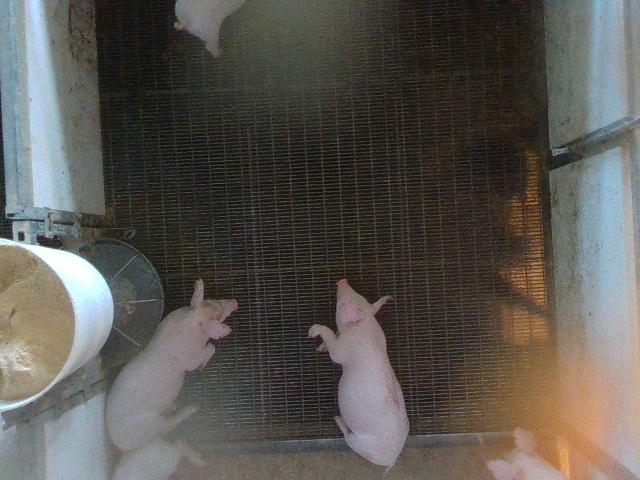pig-1: (309, 279, 409, 469)
